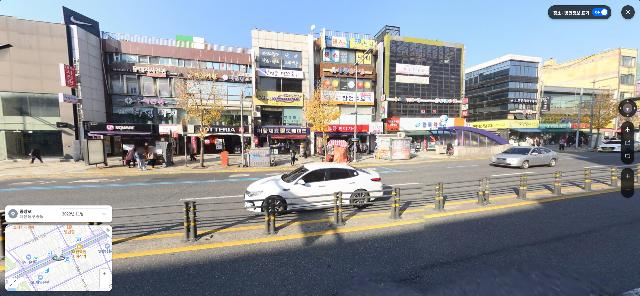ginkgo: (175, 62, 230, 168), (303, 80, 342, 159), (556, 95, 592, 145), (593, 96, 616, 142)
